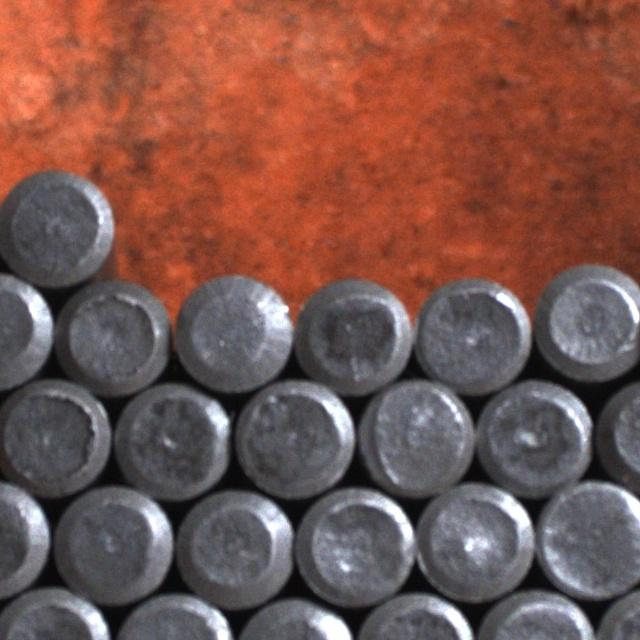tool: (170, 266, 298, 394), (231, 377, 355, 501), (412, 480, 537, 603), (412, 270, 534, 394), (52, 482, 174, 606), (173, 486, 295, 609), (294, 270, 415, 394), (0, 160, 115, 290), (295, 485, 417, 606), (113, 379, 233, 502), (358, 375, 477, 497), (58, 271, 174, 396), (473, 378, 593, 498), (0, 376, 112, 498), (535, 256, 640, 382), (534, 476, 640, 600), (0, 268, 53, 392), (0, 476, 51, 602), (474, 588, 596, 640), (0, 583, 110, 640)
